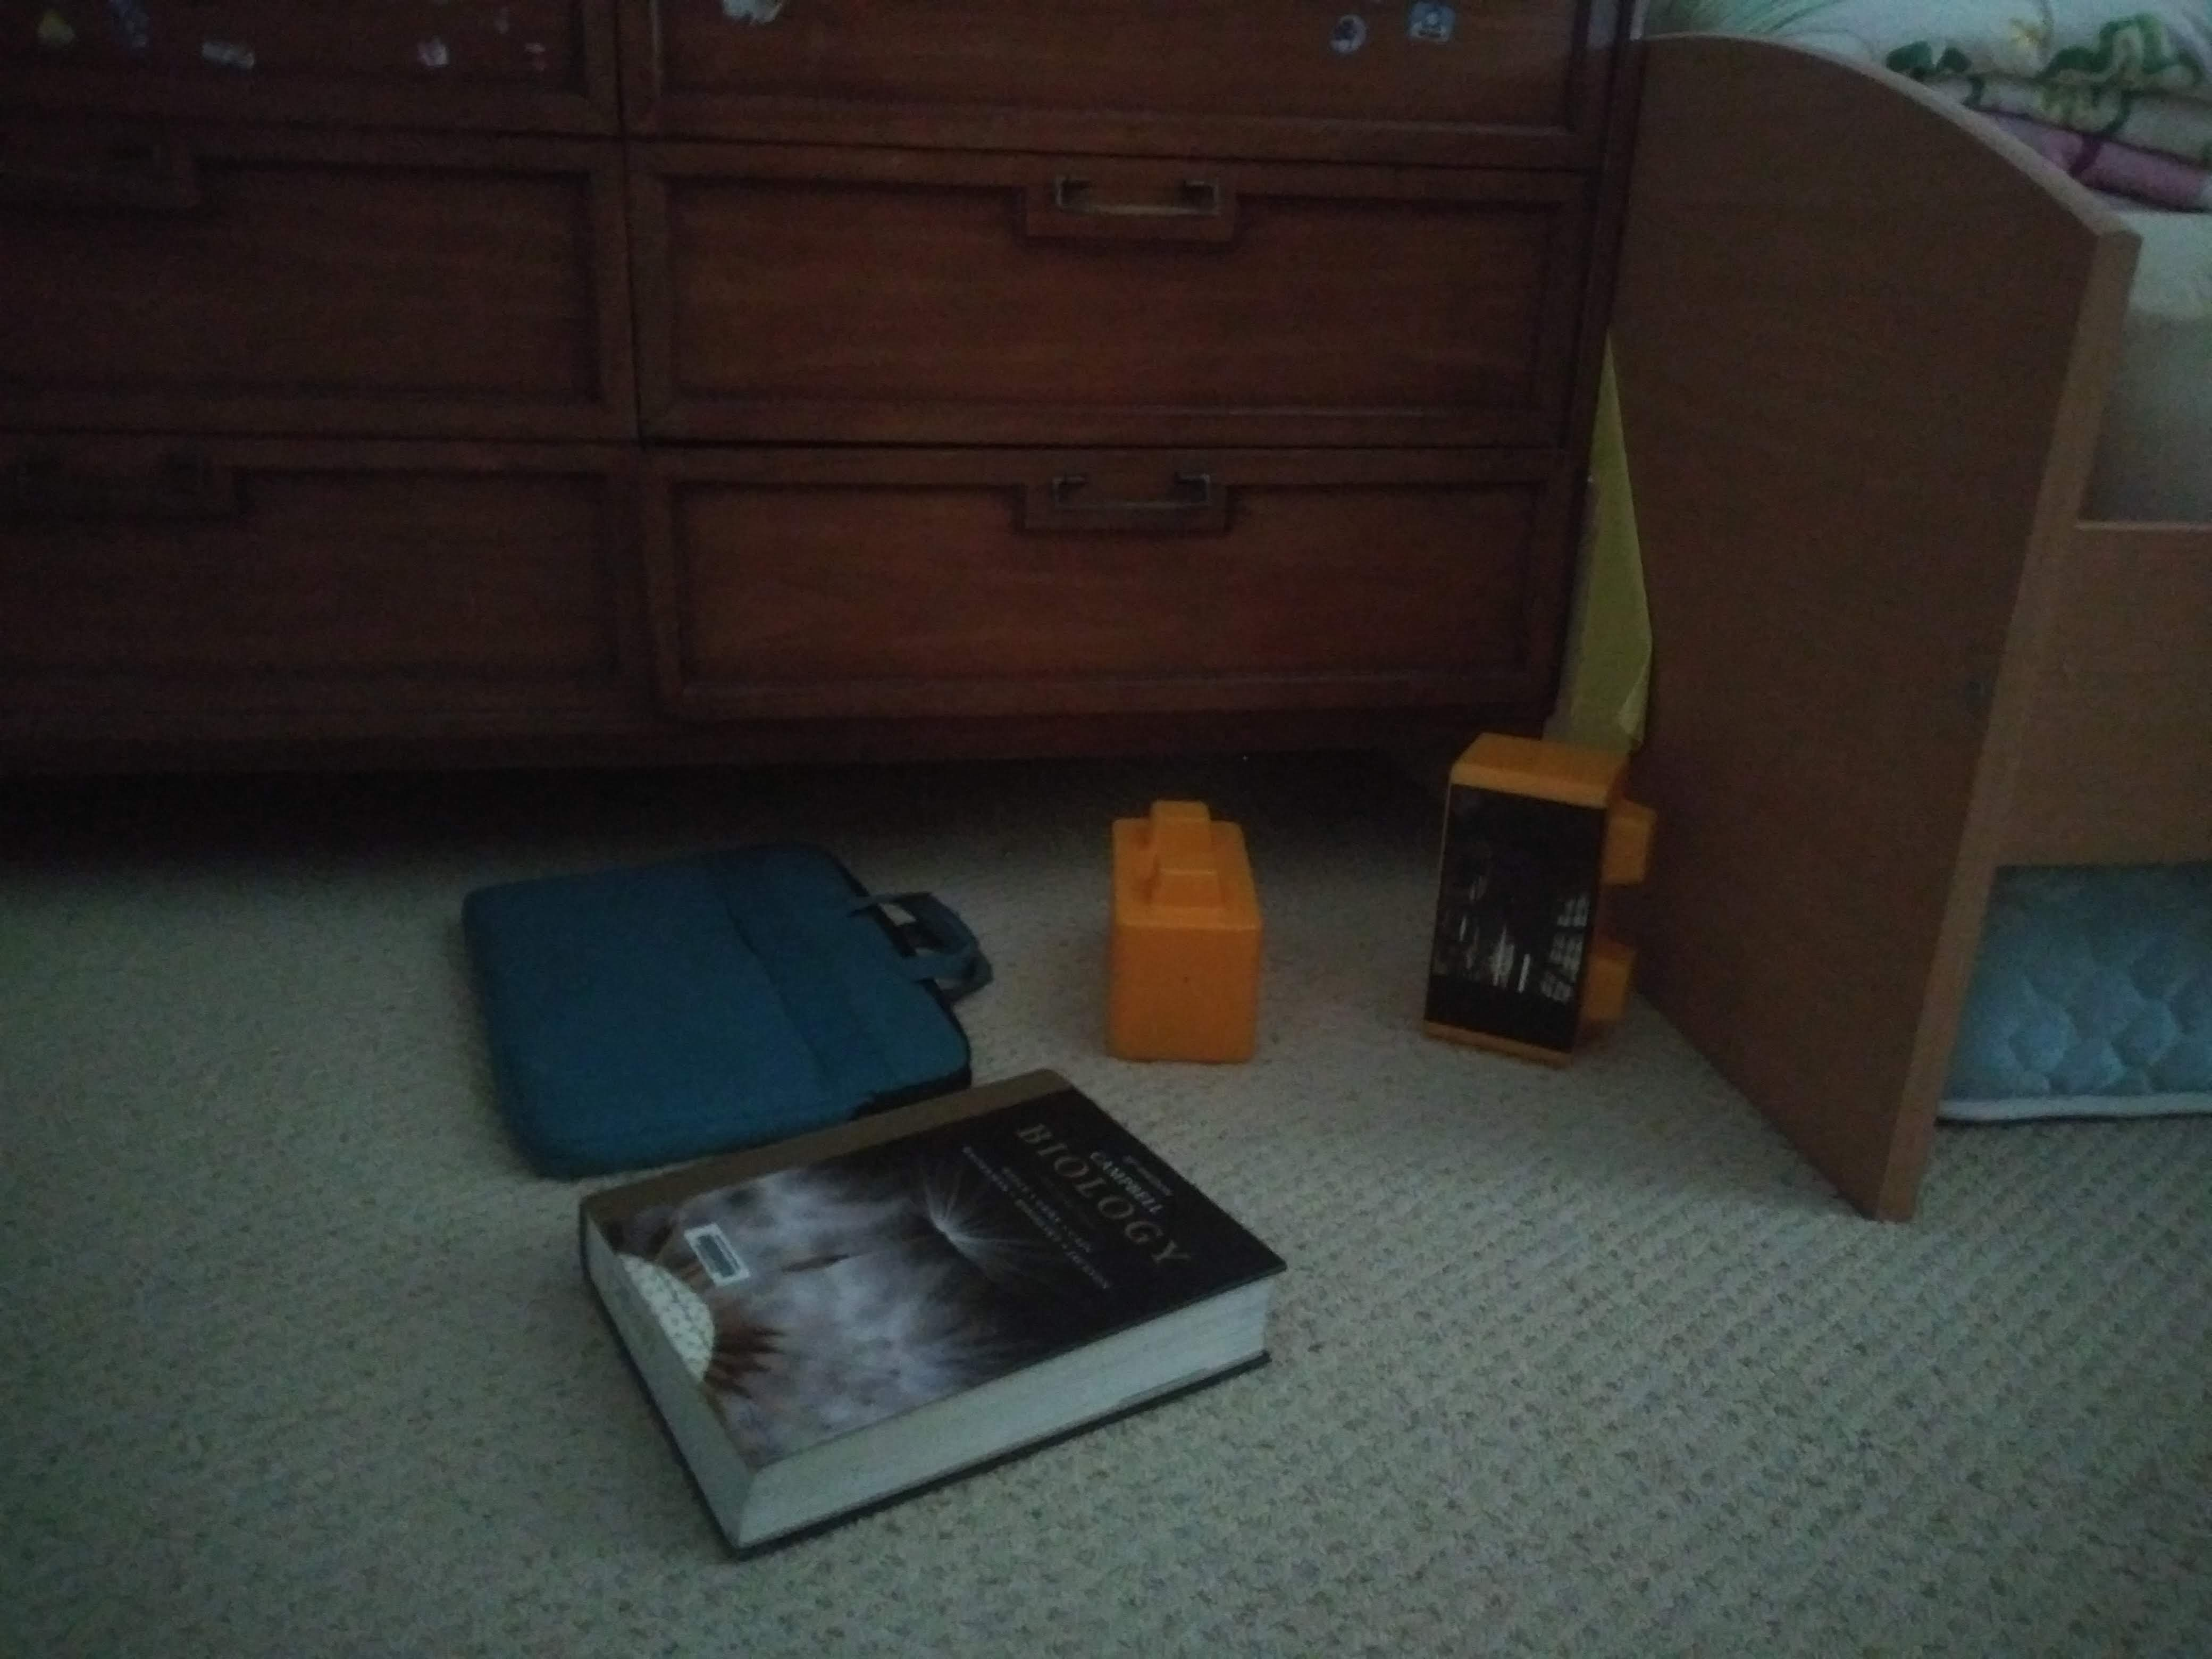skystone: (1435, 758, 1630, 1070)
stone: (1103, 810, 1268, 1066)
